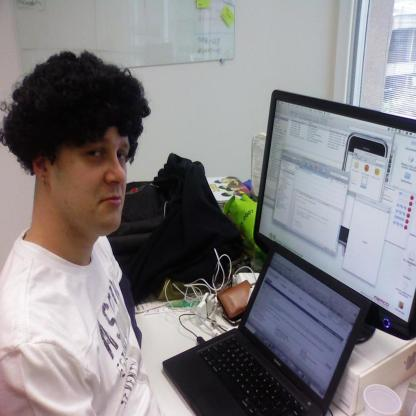board: (163, 245, 372, 416)
